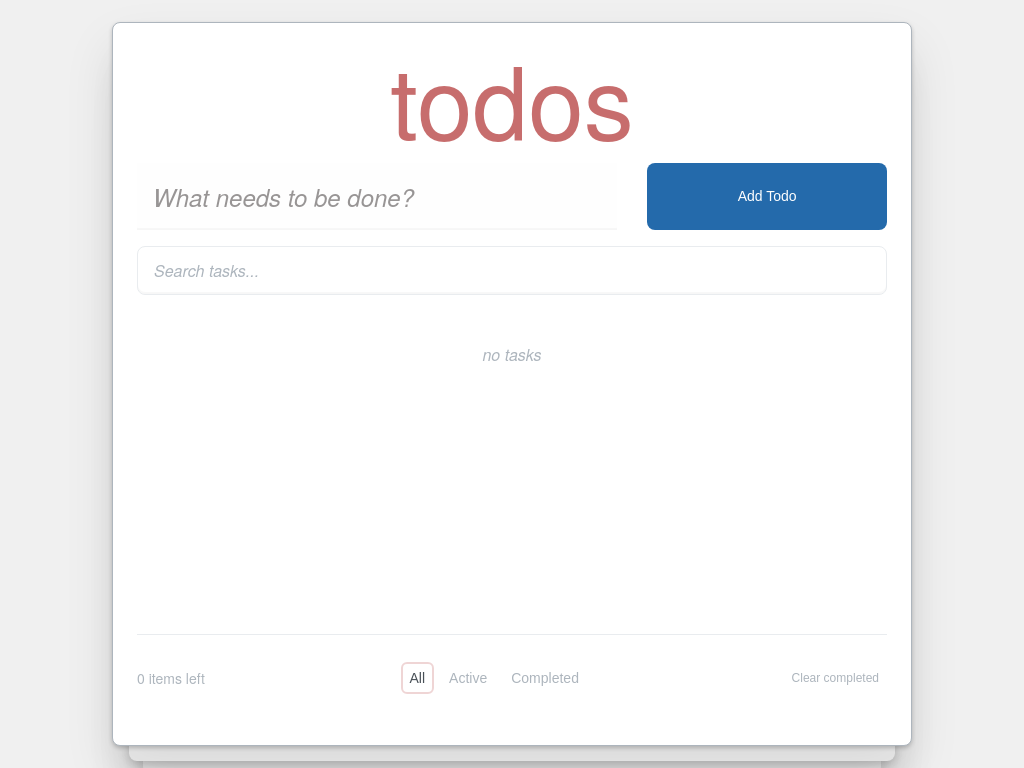
Test: Todo Workflow Integration › должен удалять задачу
Type "Задача для удаления" into the field with placeholder "What needs to be done?".
click(377, 196); type("Задача для удаления")  # box [137,163,616,230]
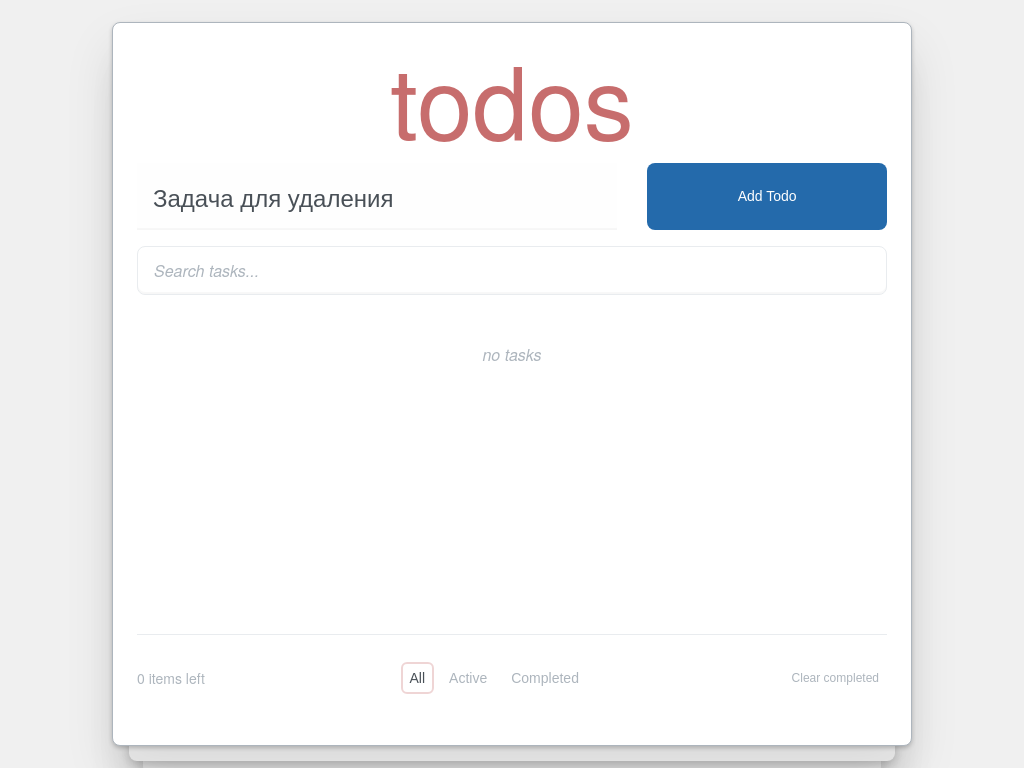
Click the button "Add Todo".
click(767, 196)  # box [647,163,887,230]
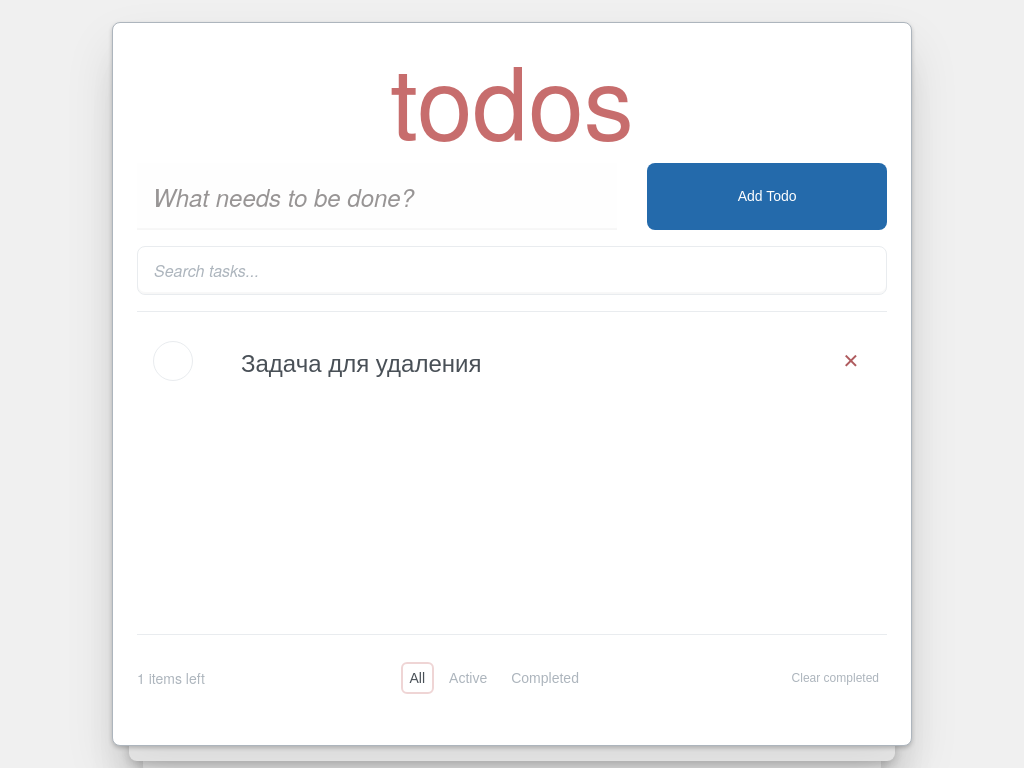
Expected: the text "Задача для удаления" is shown, [241,344,481,379]
Click the button named "Remove task".
click(851, 361)  # box [831,345,871,377]
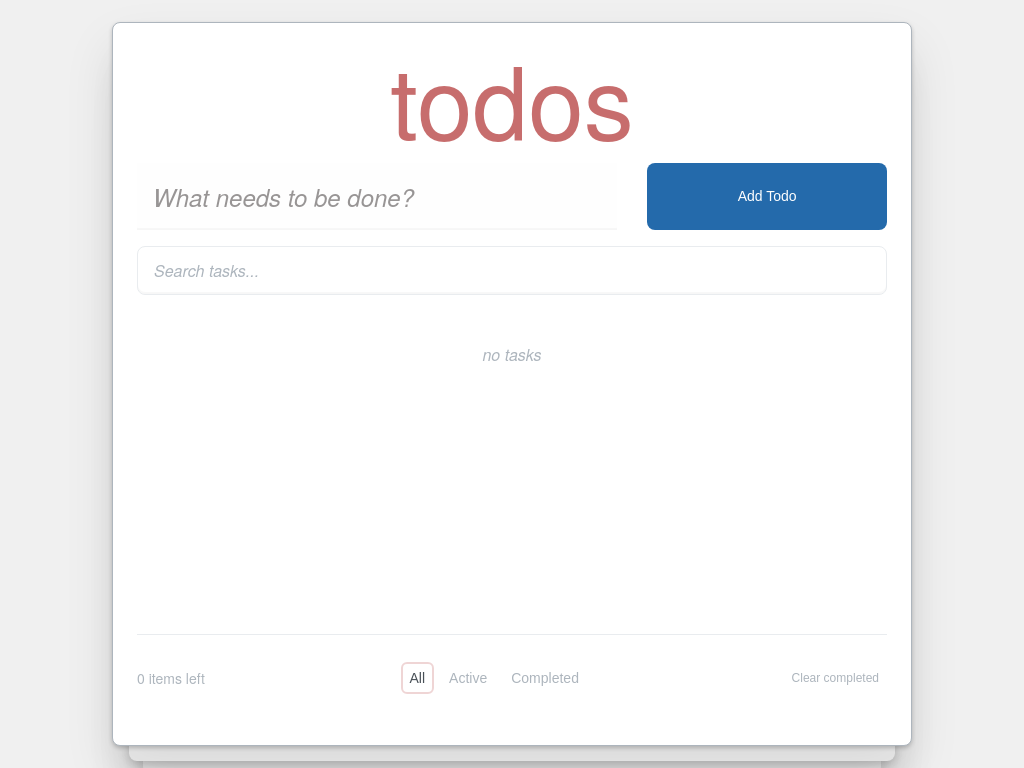
Expected: the text "Задача для удаления" is gone
